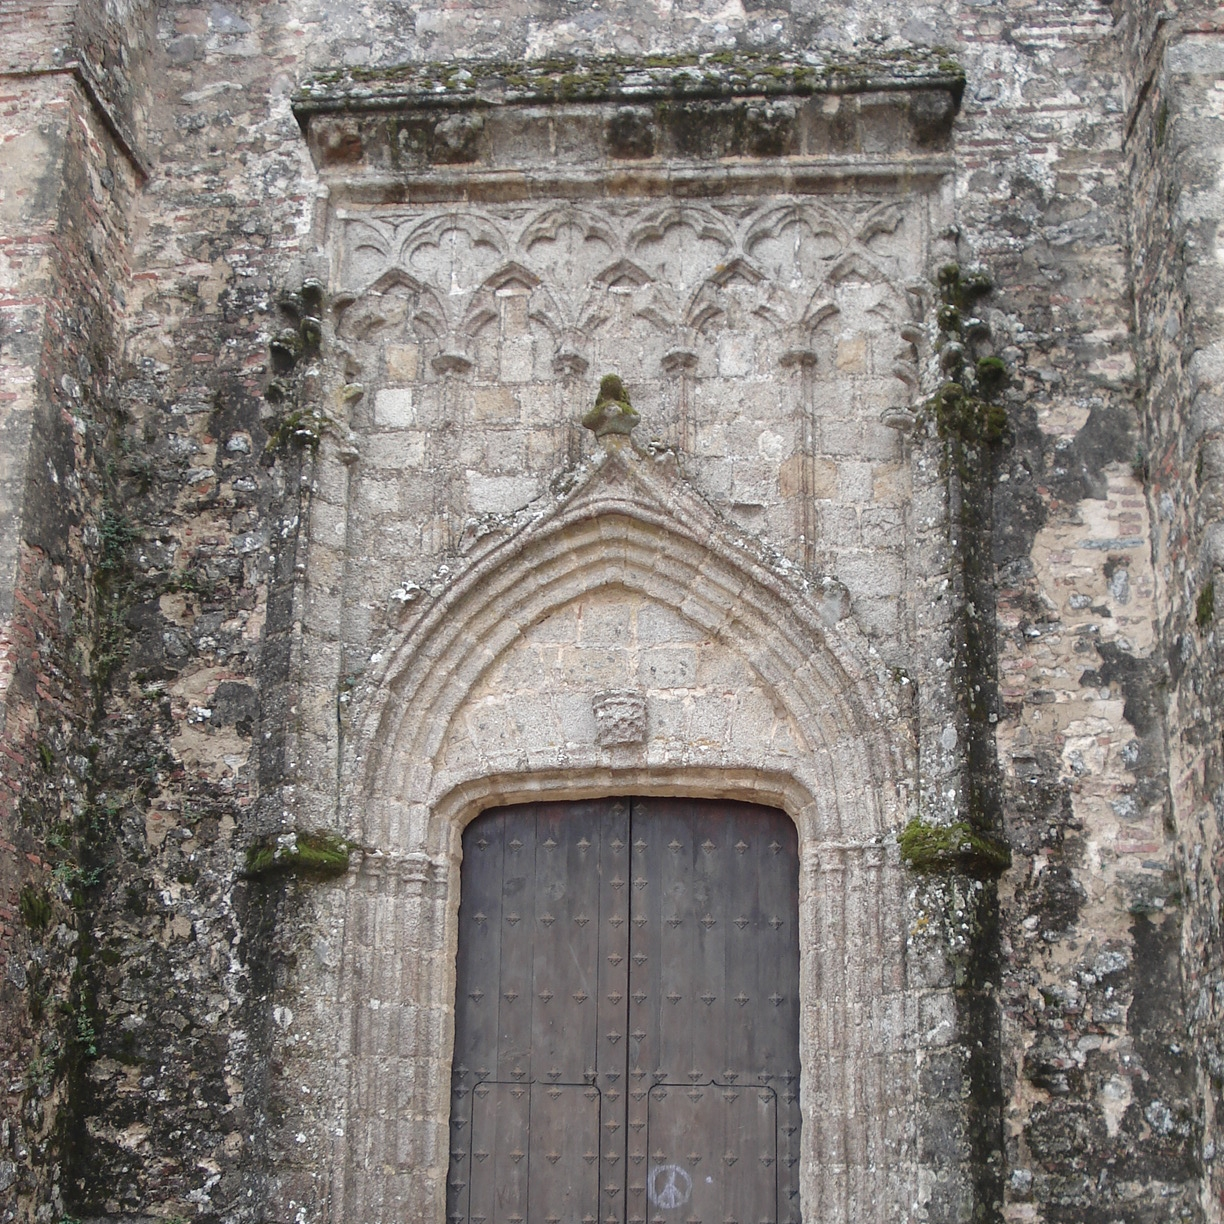arco-apuntado: (369, 498, 873, 778)
